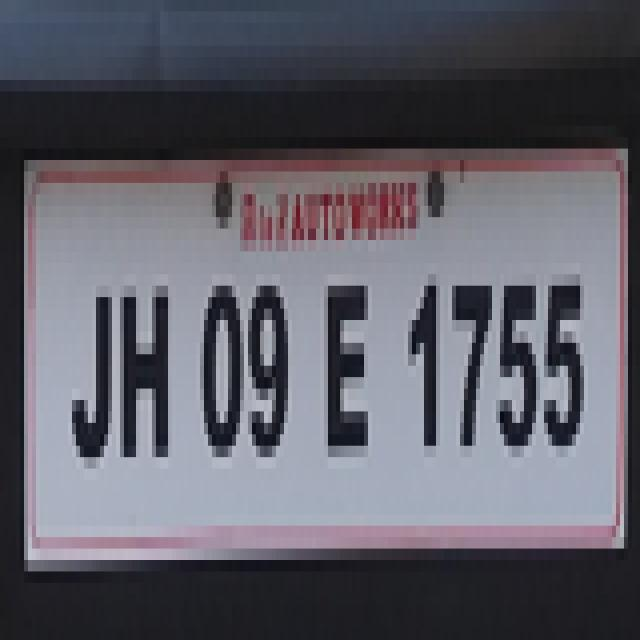0: (198, 278, 245, 466)
1: (400, 256, 447, 469)
5: (542, 265, 588, 465), (497, 264, 543, 464)
7: (448, 269, 496, 469)
9: (243, 272, 292, 458)
E: (324, 269, 376, 468)
H: (116, 276, 178, 474)
J: (65, 271, 116, 459)
